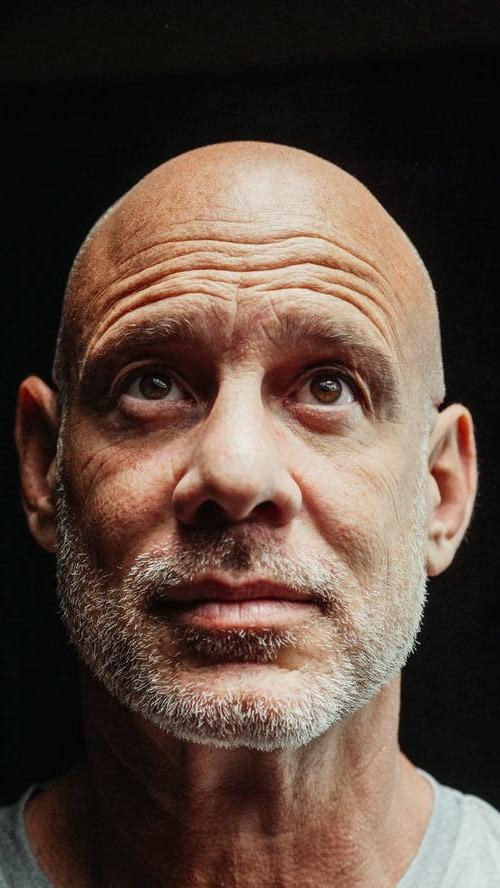Wrinkles: (98, 264, 374, 320), (117, 234, 390, 282), (261, 283, 392, 348), (96, 291, 230, 340), (92, 252, 214, 305), (324, 281, 389, 312), (170, 219, 247, 225), (209, 280, 239, 284)
